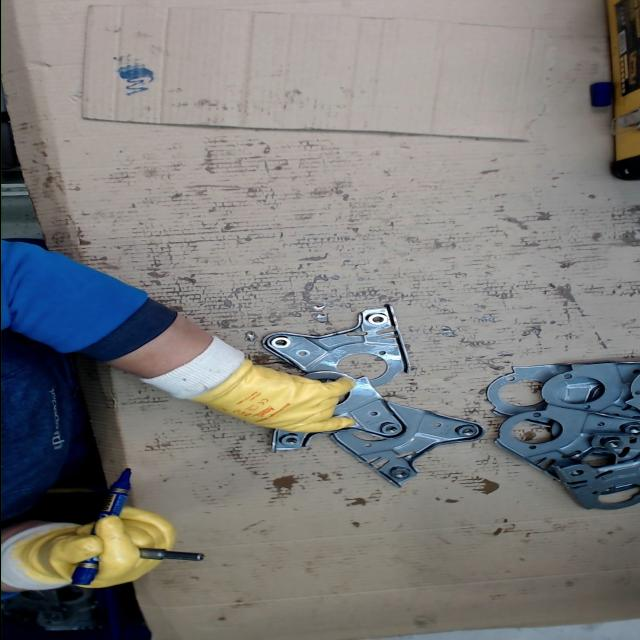hands: (16, 504, 178, 590), (195, 360, 357, 438)
